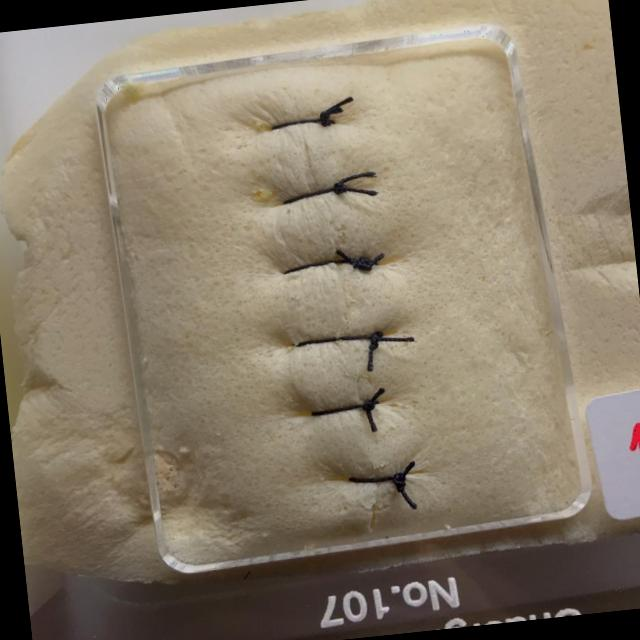knot: (392, 472, 406, 491), (354, 258, 373, 269), (370, 331, 382, 348), (319, 111, 331, 125), (333, 182, 347, 193), (362, 400, 375, 409)
leftover: (318, 93, 354, 121), (334, 171, 379, 191), (395, 476, 419, 512), (334, 247, 366, 268), (335, 184, 382, 197), (365, 383, 386, 409), (396, 457, 417, 483), (364, 335, 378, 373), (363, 403, 378, 435), (360, 251, 386, 267), (371, 335, 417, 343), (320, 105, 344, 120)
stitch: (281, 257, 381, 275), (278, 182, 349, 206), (306, 398, 382, 417), (292, 333, 381, 347), (268, 116, 338, 131), (345, 475, 408, 484)
wound: (290, 84, 385, 510)
